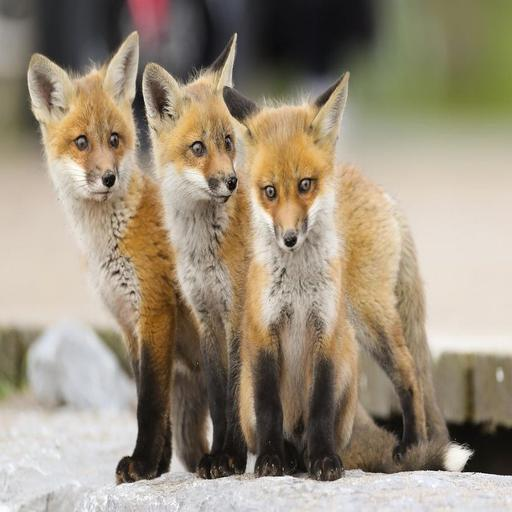Fox: (26, 24, 326, 489), (219, 81, 480, 486), (143, 31, 369, 476)
